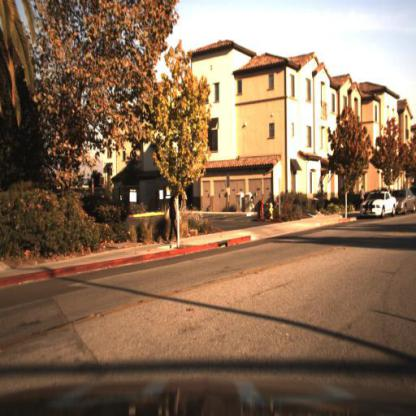car: (359, 188, 397, 222), (393, 188, 416, 215), (396, 186, 416, 217)
pedestrian: (167, 182, 181, 246), (167, 187, 179, 246), (357, 182, 368, 206)
